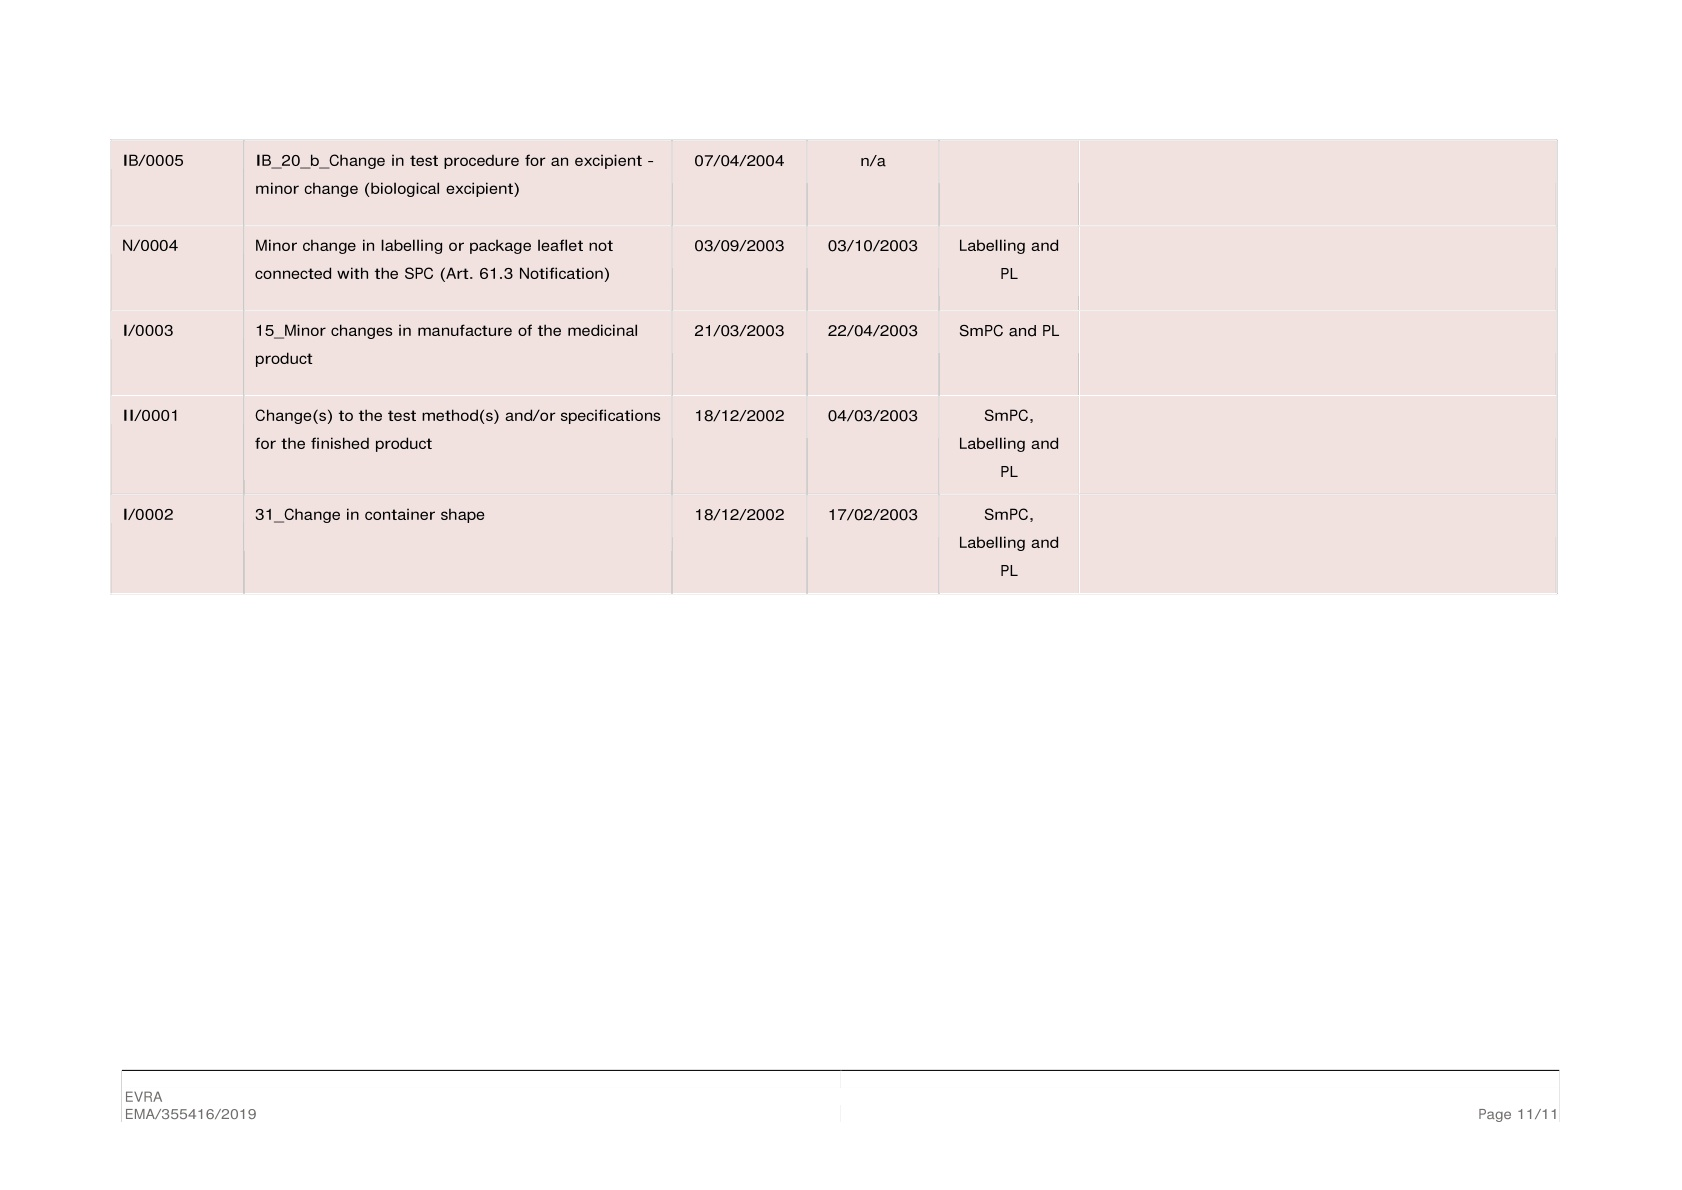full_lined: (108, 137, 1558, 598)
